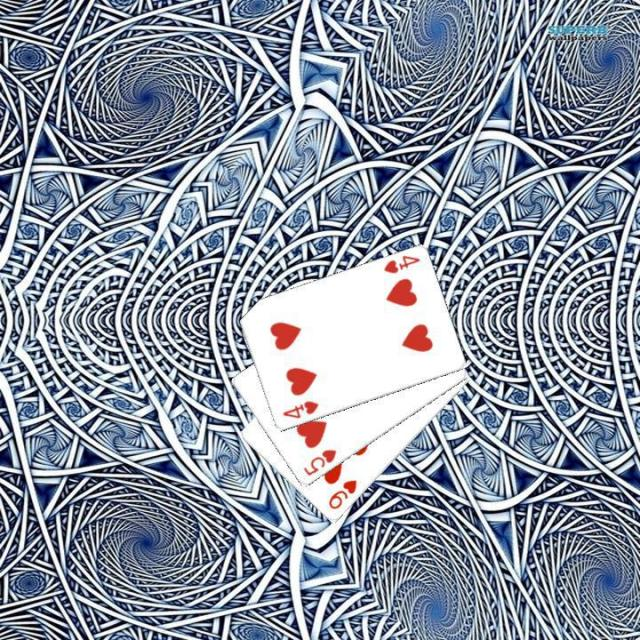4H: (379, 252, 422, 276), (278, 398, 320, 420)
5H: (300, 446, 338, 478)
9H: (325, 476, 359, 512)
